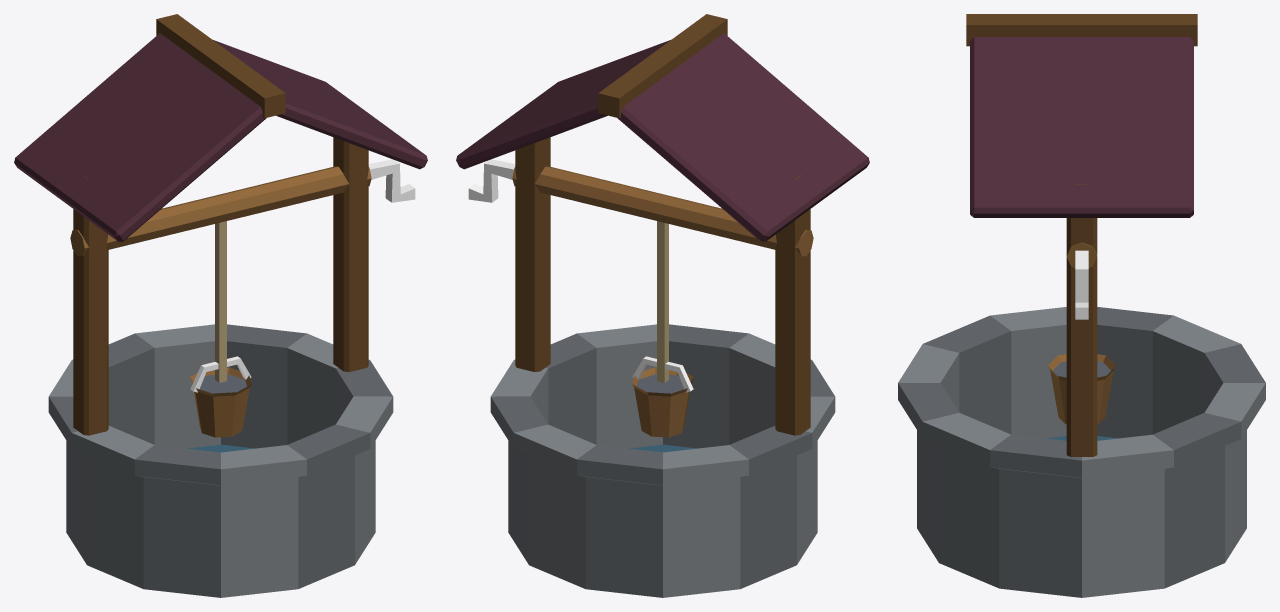
File: well.glb
3 views of the same model, side by side, from view 1: azimuth 30°, elevation 25°; view 2: azimuth 150°, elevation 25°; view 3: azimuth 270°, elevation 25° (orthographic). The views are drawn at different scales.
Parts seen in each view (by area): view 1: Well; view 2: Well; view 3: Well.
Part boxes in pixels (x1=…): Well: x1=14, y1=14, x2=427, y2=597; Well: x1=456, y1=14, x2=869, y2=597; Well: x1=898, y1=14, x2=1265, y2=597.
Size of the model in its own units: 1.82 by 2.38 by 1.56.
